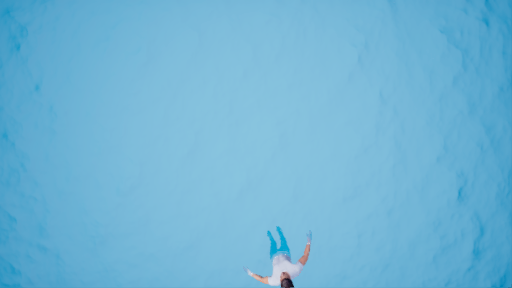person: (245, 224, 321, 288)
